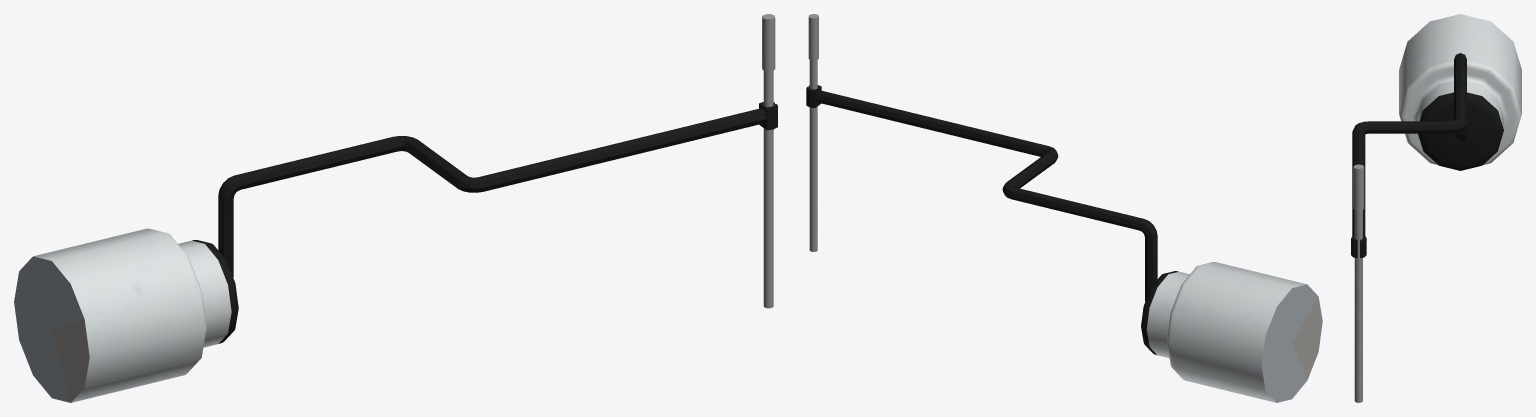
Rendered from SM_光谱仪_调整旋转_02.FBX.
The picture shows the model from 3 angles, left to right: view 1: azimuth 30°, elevation 25°; view 2: azimuth 150°, elevation 25°; view 3: azimuth 270°, elevation 25°; orthographic projection. The views are drawn at different scales.
Parts seen in each view (by area): view 1: SM_光谱仪_调整旋转_02; view 2: SM_光谱仪_调整旋转_02; view 3: SM_光谱仪_调整旋转_02.
Boxes of the visible parts, x1=… form: SM_光谱仪_调整旋转_02: x1=14, y1=14, x2=777, y2=402; SM_光谱仪_调整旋转_02: x1=806, y1=14, x2=1322, y2=402; SM_光谱仪_调整旋转_02: x1=1351, y1=14, x2=1521, y2=402.
Size of the model in its own units: 0.1898 by 0.0794 by 0.0524.
